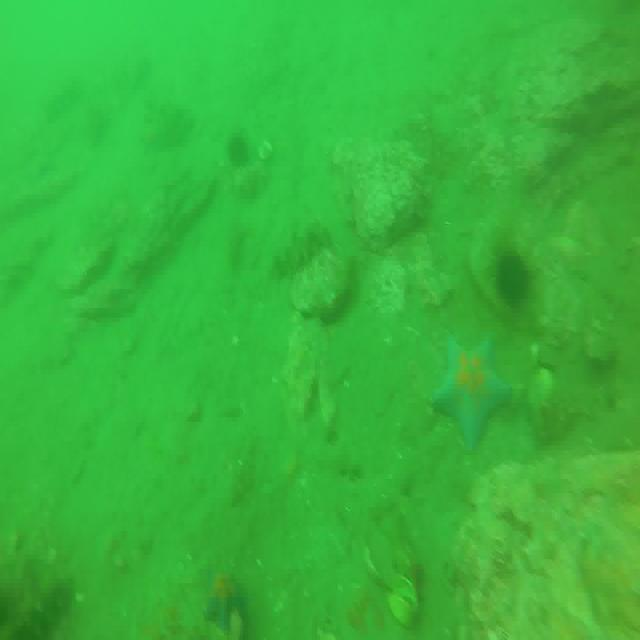echinus: (493, 251, 531, 309), (225, 128, 253, 171)
holothurian: (269, 228, 332, 283)
starfish: (433, 339, 511, 455), (200, 570, 249, 636)
